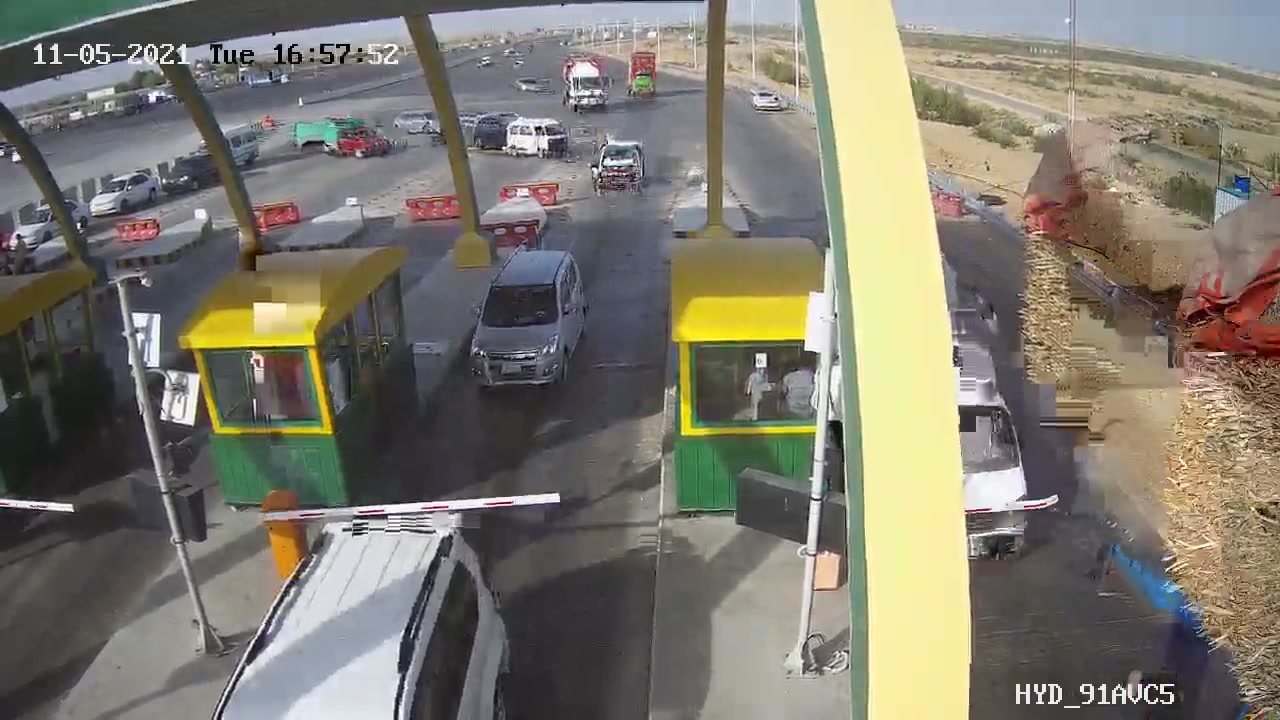F1: (449, 237, 601, 411)
